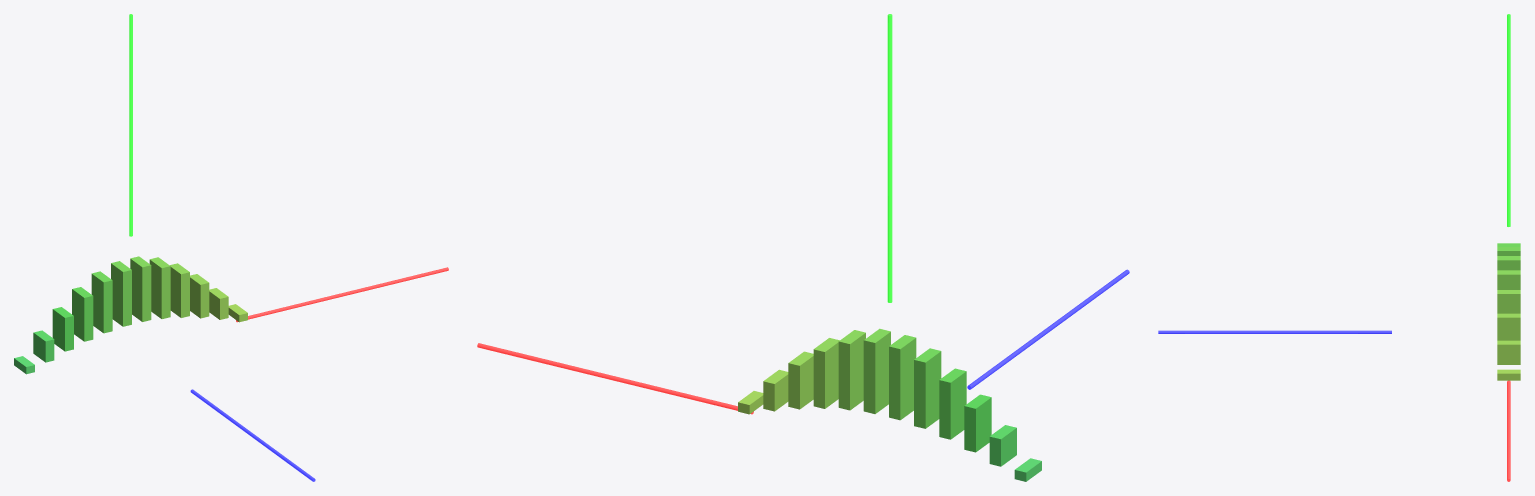
File: area-under-curve-sinx.glb
3 renders of one model, left to right at view 1: azimuth 30°, elevation 25°; view 2: azimuth 150°, elevation 25°; view 3: azimuth 270°, elevation 25°, orthographic. The views are drawn at different scales.
Size of the model in its own units: 2.02 by 1.51 by 1.55.
